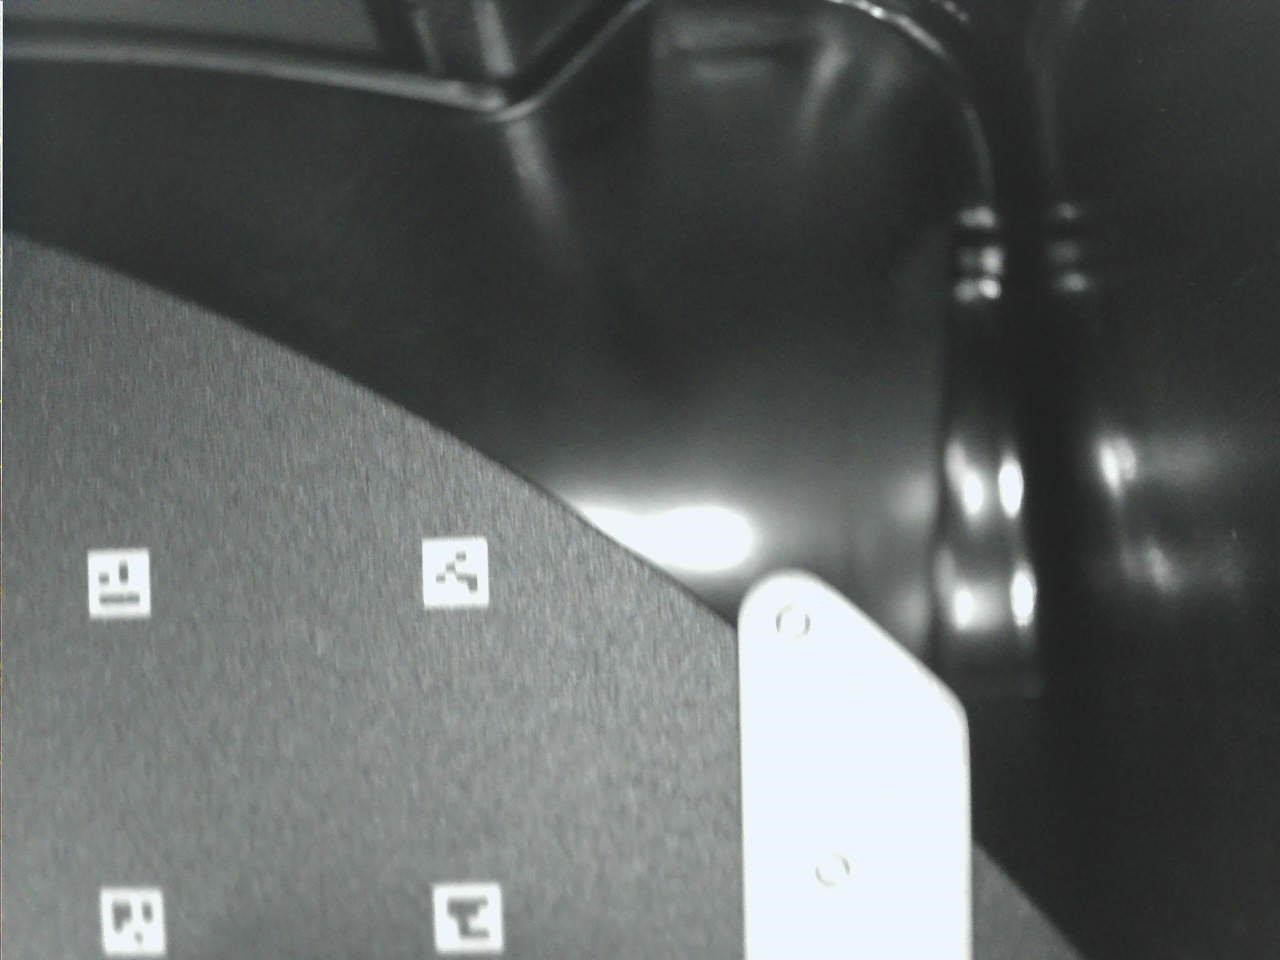forktip: (718, 539, 1000, 960)
